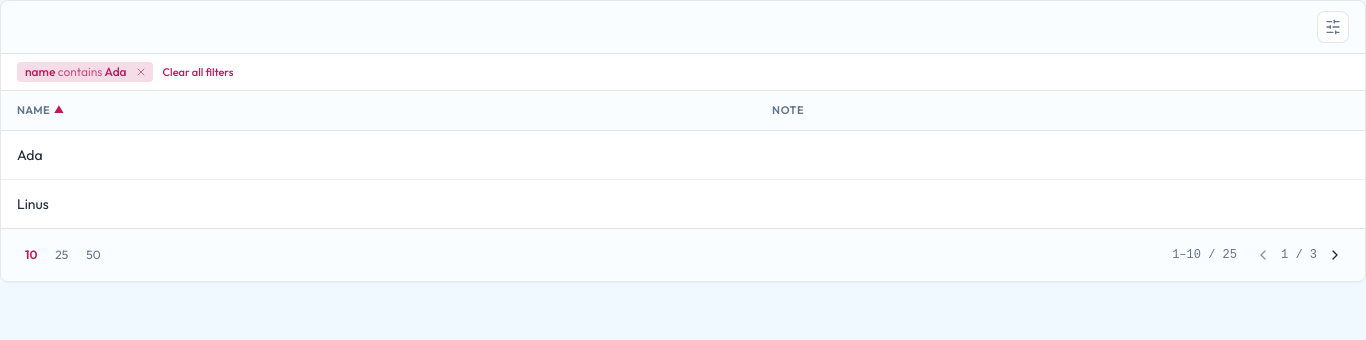
Test: DataTable auto-refresh status chip (K-55) › renders beside the filter chips when both are live
Click the button named "table settings".
click(1333, 27)  # box top-left (1317, 11), bottom-right (1349, 43)
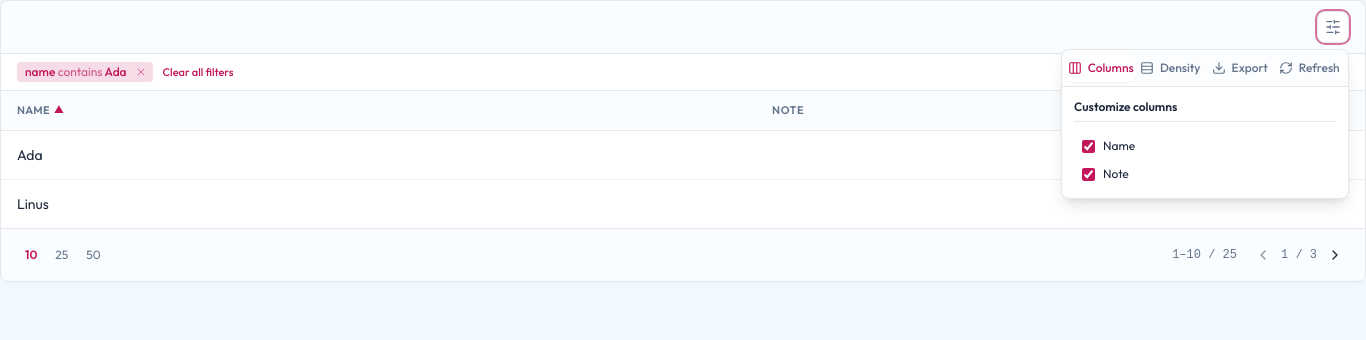
Click the button "Refresh".
click(1309, 68)  # box top-left (1274, 54), bottom-right (1344, 82)
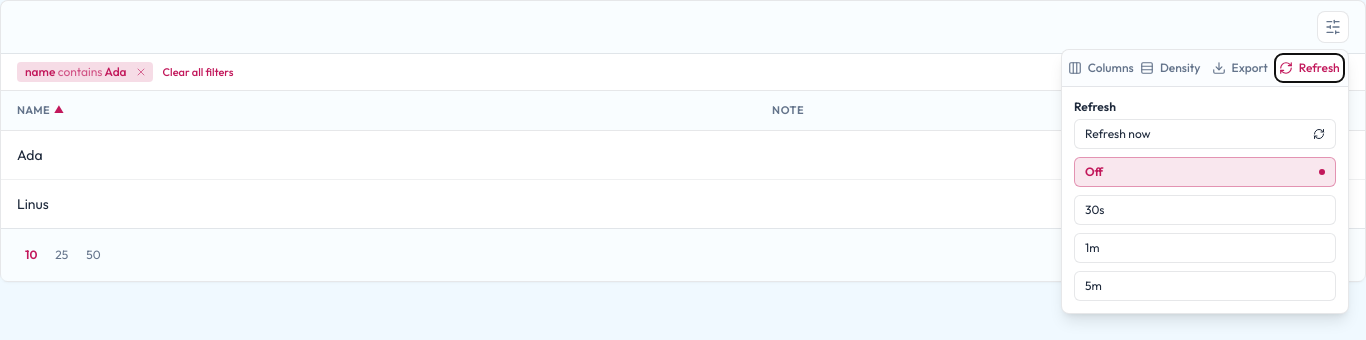
Click the button "1m".
click(1092, 248)  # box top-left (1074, 233), bottom-right (1336, 263)
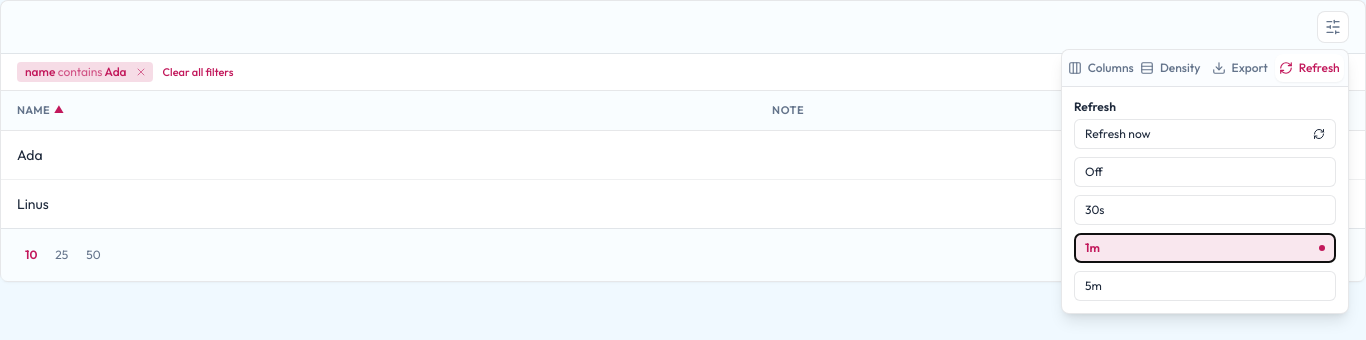
Expected: the element showing "name contains Ada" is shown, top-left (17, 62), bottom-right (153, 82)
Result: the text "Auto: 1:00" is shown at top-left (1269, 64), bottom-right (1341, 80)
